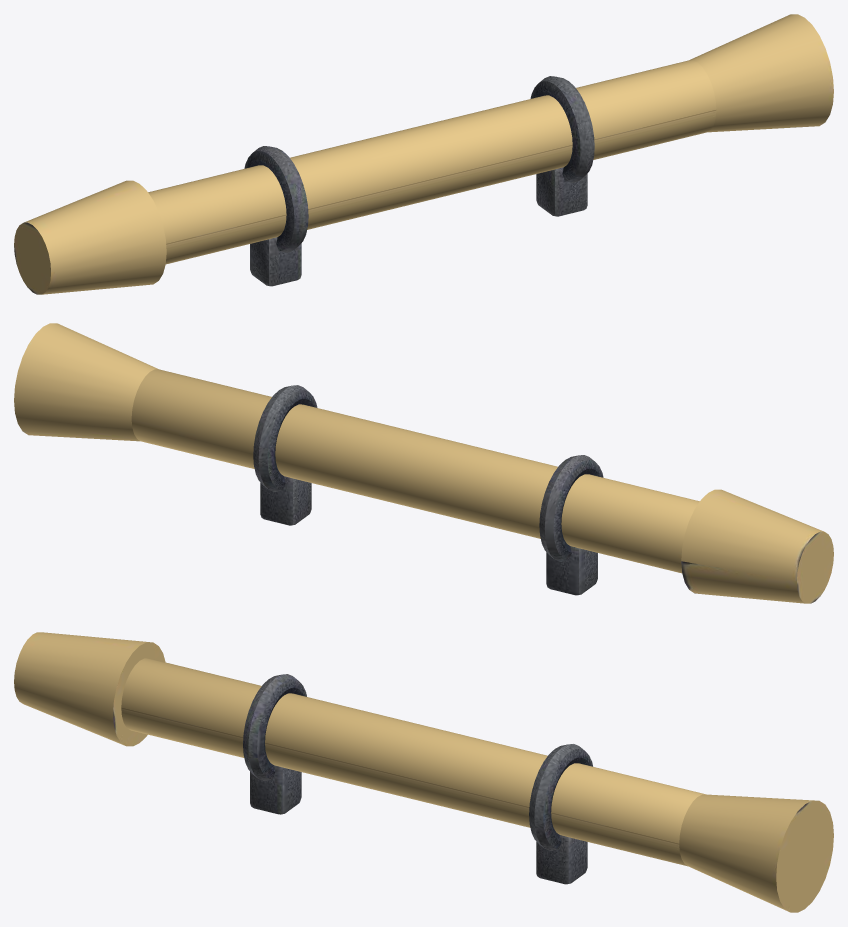
File: att_sight.glb
3 renders of one model, top to bottom at view 1: azimuth 30°, elevation 25°; view 2: azimuth 150°, elevation 25°; view 3: azimuth 330°, elevation 25°, orthographic.
Visible parts, largest first — view 1: tube, eye, bell, ring0.04, ring-0.04, foot-0.04, foot0.04; view 2: tube, eye, bell, ring0.04, ring-0.04, foot-0.04, foot0.04; view 3: tube, bell, eye, ring0.04, ring-0.04, foot0.04, foot-0.04.
Boxes of the visible parts, x1,y1,x2,y2 form: tube: [148, 60, 716, 264]; eye: [14, 180, 166, 294]; bell: [689, 14, 833, 132]; ring0.04: [530, 76, 594, 182]; ring-0.04: [244, 146, 308, 252]; foot-0.04: [250, 237, 301, 286]; foot0.04: [536, 167, 587, 216]; tube: [131, 369, 699, 573]; eye: [681, 489, 833, 603]; bell: [14, 323, 158, 441]; ring0.04: [253, 385, 317, 491]; ring-0.04: [539, 455, 603, 561]; foot-0.04: [546, 546, 597, 595]; foot0.04: [260, 476, 311, 525]; tube: [121, 658, 706, 866]; bell: [679, 794, 833, 912]; eye: [14, 632, 165, 746]; ring0.04: [529, 744, 592, 850]; ring-0.04: [243, 674, 306, 780]; foot0.04: [536, 835, 587, 884]; foot-0.04: [250, 765, 301, 814].
Size of the model in its own units: 0.216 by 0.035 by 0.028.
1 material, 1 textured.
